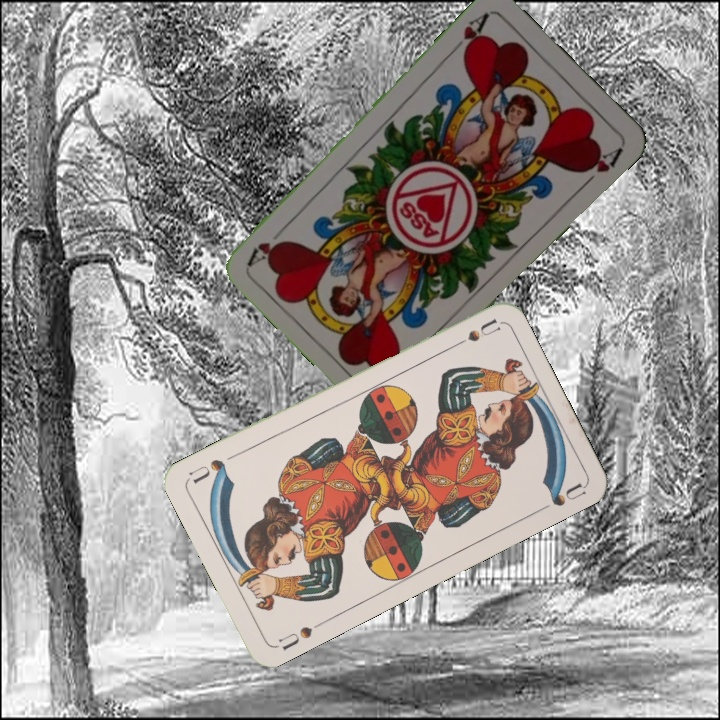HA: (446, 9, 492, 59)
SU: (445, 314, 502, 352), (274, 622, 315, 654)
